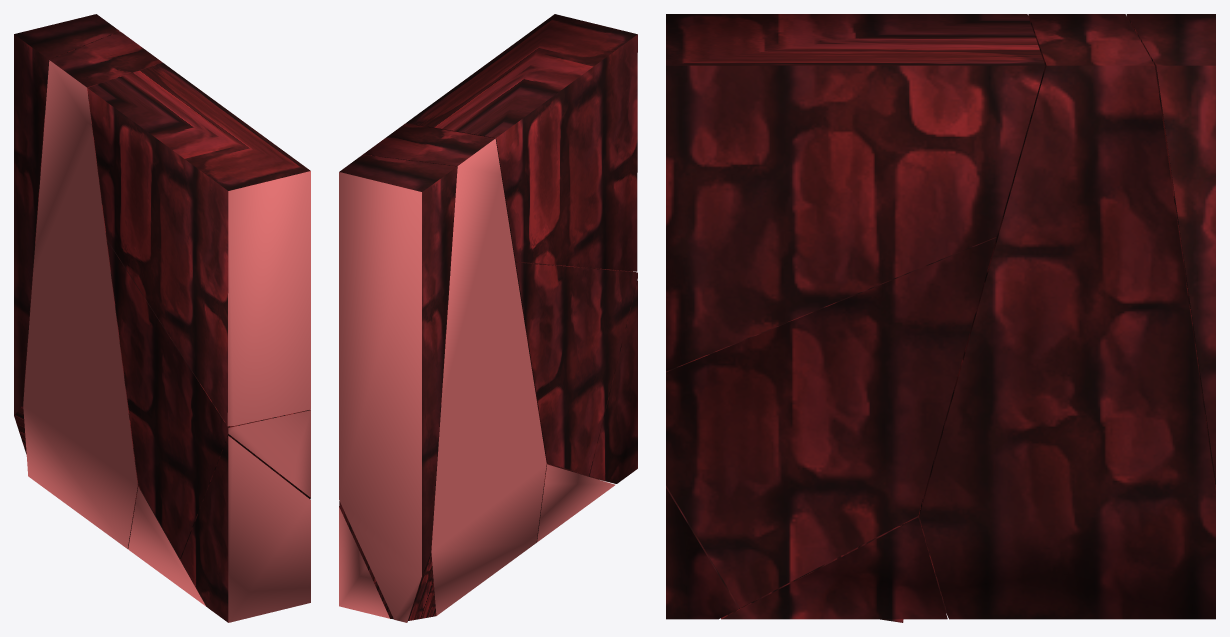
The model's file is BLK1.fbx.
3 views of the same model, side by side, from view 1: azimuth 30°, elevation 25°; view 2: azimuth 150°, elevation 25°; view 3: azimuth 270°, elevation 25° (orthographic). The views are drawn at different scales.
Visible parts, largest first — view 1: Block_LOD0.003, Block_LOD0.007, Block_LOD0.002, Block_LOD0.004, Block_LOD0.001, Block_LOD0.006; view 2: Block_LOD0.001, Block_LOD0.007, Block_LOD0.003, Block_LOD0.002, Block_LOD0.004, Block_LOD0.006; view 3: Block_LOD0.007, Block_LOD0.003, Block_LOD0.002, Block_LOD0.001, Block_LOD0.006, Block_LOD0.004.
Part boxes in pixels (x1=…): Block_LOD0.003: x1=87, y1=63, x2=310, y2=426; Block_LOD0.007: x1=23, y1=31, x2=162, y2=548; Block_LOD0.002: x1=107, y1=240, x2=310, y2=558; Block_LOD0.004: x1=180, y1=436, x2=310, y2=622; Block_LOD0.001: x1=14, y1=14, x2=119, y2=454; Block_LOD0.006: x1=128, y1=486, x2=206, y2=606; Block_LOD0.001: x1=339, y1=154, x2=457, y2=622; Block_LOD0.007: x1=339, y1=123, x2=546, y2=620; Block_LOD0.003: x1=406, y1=14, x2=637, y2=271; Block_LOD0.002: x1=515, y1=261, x2=637, y2=475; Block_LOD0.004: x1=574, y1=280, x2=637, y2=483; Block_LOD0.006: x1=536, y1=464, x2=615, y2=542; Block_LOD0.007: x1=918, y1=14, x2=1215, y2=619; Block_LOD0.003: x1=666, y1=14, x2=1045, y2=371; Block_LOD0.002: x1=666, y1=237, x2=996, y2=607; Block_LOD0.001: x1=1126, y1=14, x2=1215, y2=490; Block_LOD0.006: x1=721, y1=516, x2=947, y2=619; Block_LOD0.004: x1=666, y1=485, x2=739, y2=619.
Size of what is drawn, in the model's own units: 20 by 101 by 90.
